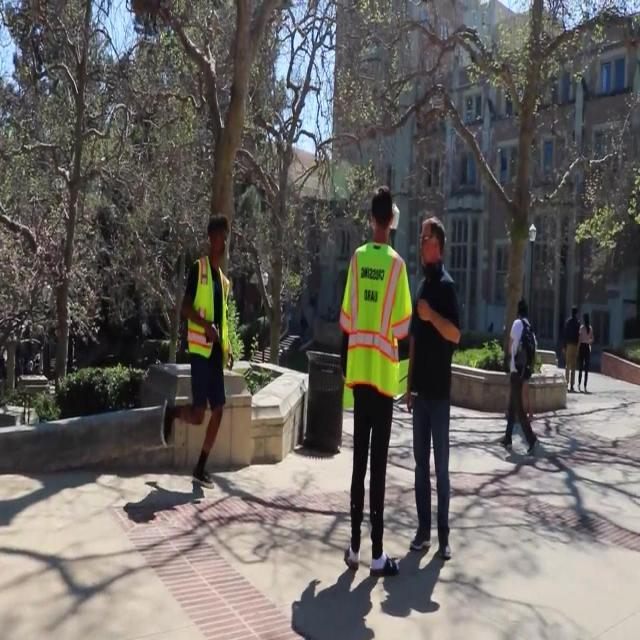Reflective-Jacket: (336, 242, 416, 408), (182, 250, 238, 370)
